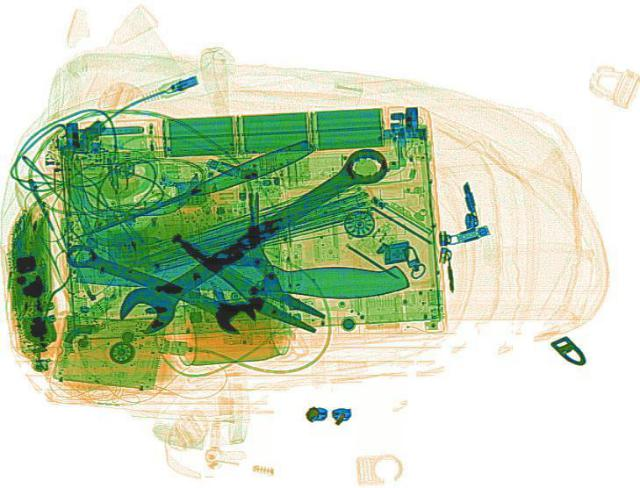Knife: (62, 136, 318, 244), (72, 217, 410, 297)
Wrench: (103, 137, 404, 337), (51, 233, 262, 335)
